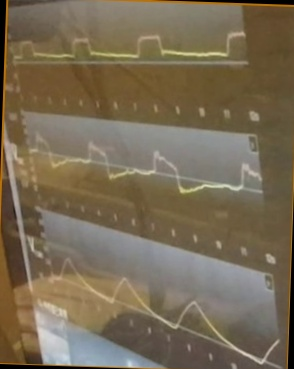Accumulation Flow: (29, 129, 263, 196)
Volume: (53, 255, 278, 364)
